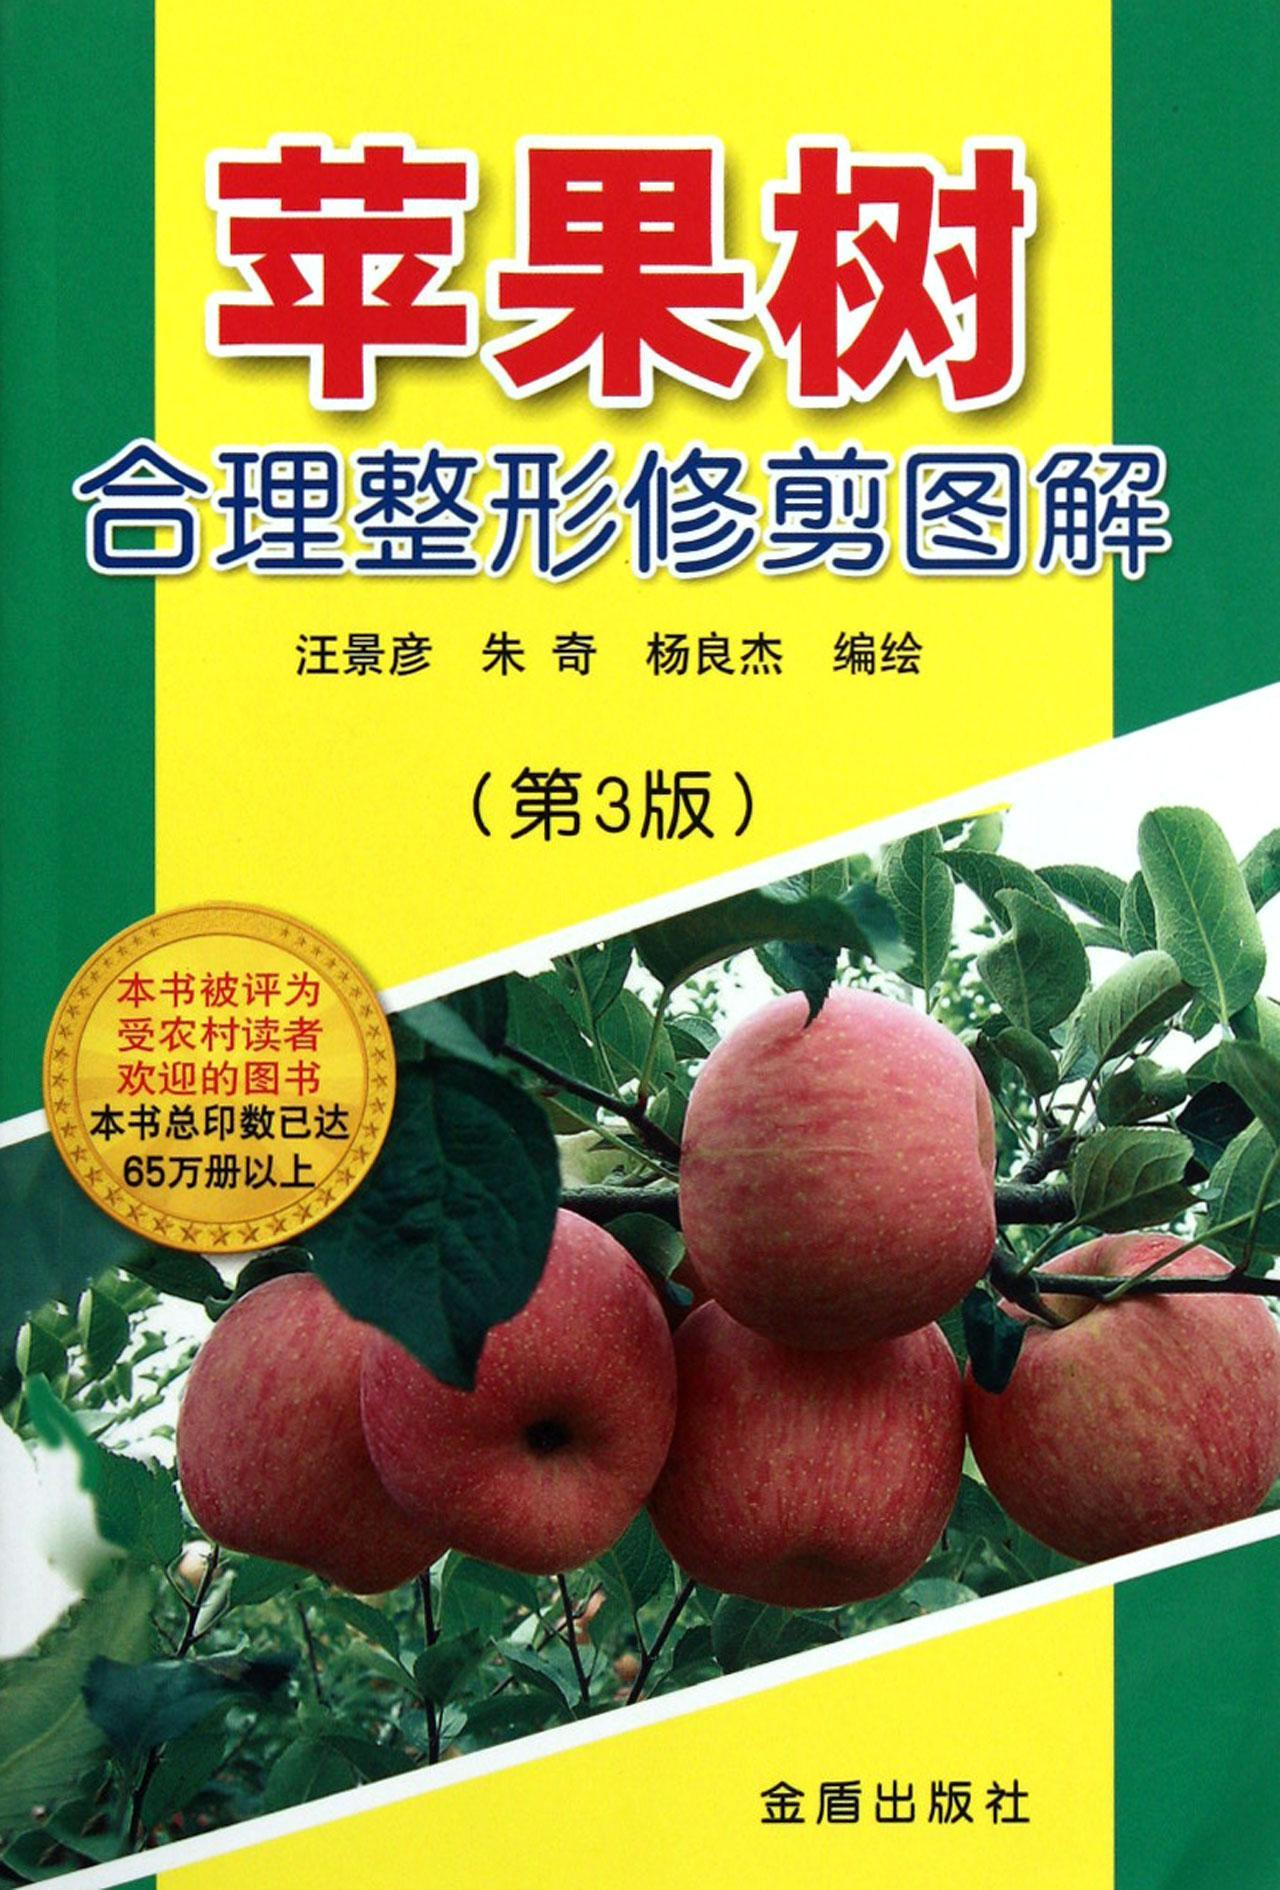apple: (671, 991, 1000, 1354), (354, 1206, 671, 1576), (650, 1291, 974, 1603), (969, 1233, 1276, 1559), (179, 1266, 450, 1601)
